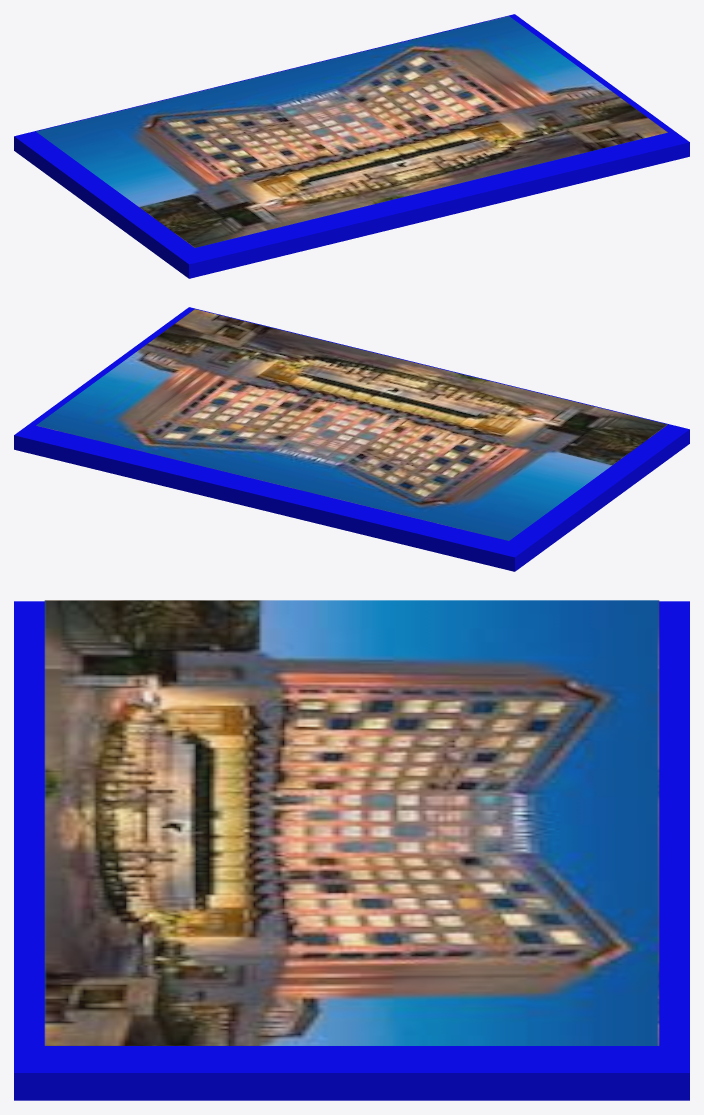
The picture shows the model from 3 angles, top to bottom: view 1: azimuth 30°, elevation 25°; view 2: azimuth 150°, elevation 25°; view 3: azimuth 270°, elevation 25°; orthographic projection. The views are drawn at different scales.
Parts seen in each view (by area): view 1: PhotoPlane, PhotoBorder; view 2: PhotoPlane, PhotoBorder; view 3: PhotoPlane, PhotoBorder.
Part boxes in pixels (x1=…): PhotoPlane: x1=36, y1=16, x2=667, y2=247; PhotoBorder: x1=14, y1=14, x2=689, y2=278; PhotoPlane: x1=36, y1=309, x2=667, y2=540; PhotoBorder: x1=14, y1=307, x2=689, y2=571; PhotoPlane: x1=44, y1=600, x2=659, y2=1045; PhotoBorder: x1=14, y1=601, x2=689, y2=1100.
Size of the model in its own units: 18.16 by 0.75 by 11.
Materials: 2 (1 with a texture image).
